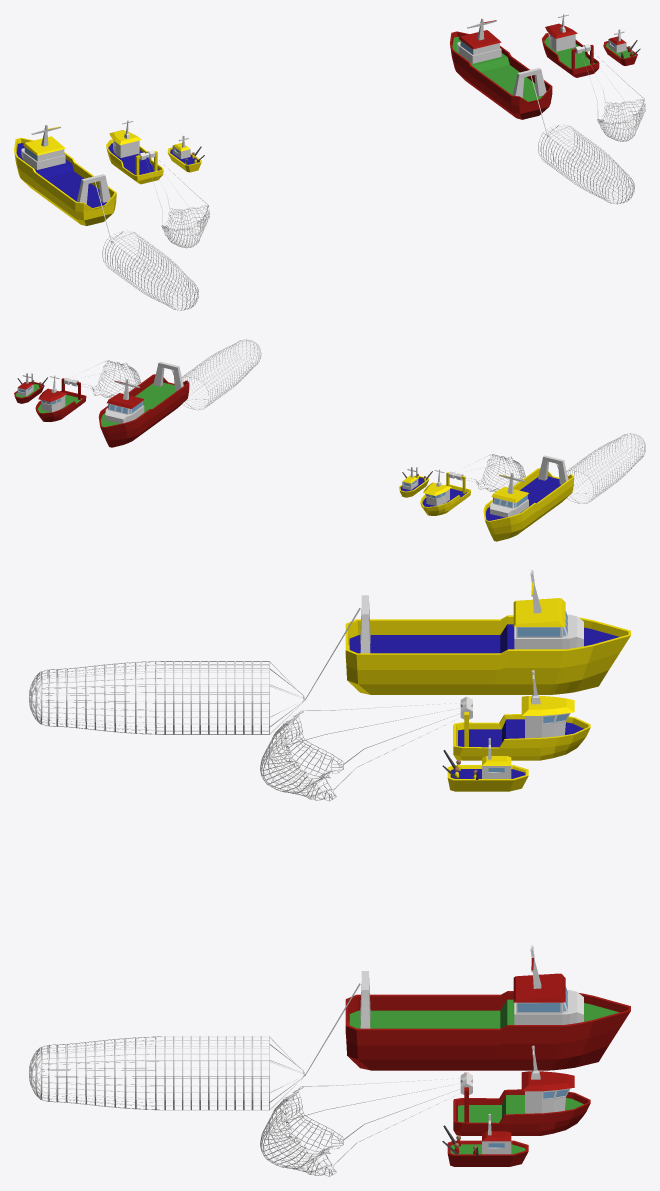
Rendered from Boats.fbx.
3 views of the same model, one above another, from view 1: azimuth 30°, elevation 25°; view 2: azimuth 150°, elevation 25°; view 3: azimuth 270°, elevation 25° (orthographic). The views are drawn at different scales.
Parts seen in each view (by area): view 1: BoatYelBig, BoatRedBig, NetRedBig, NetYelBig, BoatYelMed, BoatRedMed, NetYelMed, NetRedMed, BoatRedSmall, BoatYelSmall; view 2: BoatYelBig, BoatRedBig, NetYelBig, NetRedBig, BoatYelMed, BoatRedMed, NetRedMed, NetYelMed, BoatRedSmall, BoatYelSmall; view 3: BoatRedBig, BoatYelBig, NetRedBig, NetYelBig, BoatYelMed, BoatRedMed, NetRedMed, NetYelMed, BoatYelSmall, BoatRedSmall.
Boxes of the visible parts, x1=… form: BoatYelBig: x1=14, y1=125, x2=116, y2=225; BoatRedBig: x1=450, y1=18, x2=552, y2=119; NetRedBig: x1=530, y1=74, x2=634, y2=204; NetYelBig: x1=94, y1=180, x2=198, y2=310; BoatYelMed: x1=106, y1=120, x2=163, y2=184; BoatRedMed: x1=542, y1=14, x2=599, y2=77; NetYelMed: x1=148, y1=156, x2=209, y2=248; NetRedMed: x1=585, y1=47, x2=645, y2=141; BoatRedSmall: x1=603, y1=29, x2=640, y2=65; BoatYelSmall: x1=167, y1=135, x2=204, y2=172; BoatYelBig: x1=483, y1=455, x2=573, y2=541; BoatRedBig: x1=98, y1=361, x2=189, y2=447; NetYelBig: x1=556, y1=433, x2=645, y2=503; NetRedBig: x1=172, y1=339, x2=261, y2=410; BoatYelMed: x1=420, y1=469, x2=470, y2=515; BoatRedMed: x1=35, y1=375, x2=86, y2=421; NetRedMed: x1=79, y1=360, x2=140, y2=397; NetYelMed: x1=455, y1=454, x2=525, y2=491; BoatRedSmall: x1=14, y1=373, x2=47, y2=403; BoatYelSmall: x1=398, y1=467, x2=432, y2=497; BoatRedBig: x1=345, y1=945, x2=630, y2=1070; BoatYelBig: x1=345, y1=570, x2=630, y2=694; NetRedBig: x1=29, y1=983, x2=360, y2=1110; NetYelBig: x1=29, y1=607, x2=360, y2=734; BoatYelMed: x1=453, y1=670, x2=590, y2=760; BoatRedMed: x1=453, y1=1045, x2=590, y2=1135; NetRedMed: x1=260, y1=1078, x2=464, y2=1176; NetYelMed: x1=260, y1=702, x2=462, y2=801; BoatYelSmall: x1=442, y1=738, x2=528, y2=791; BoatRedSmall: x1=442, y1=1114, x2=528, y2=1166.
Bounding box in the file's own units: 4016 × 571 × 1989.
